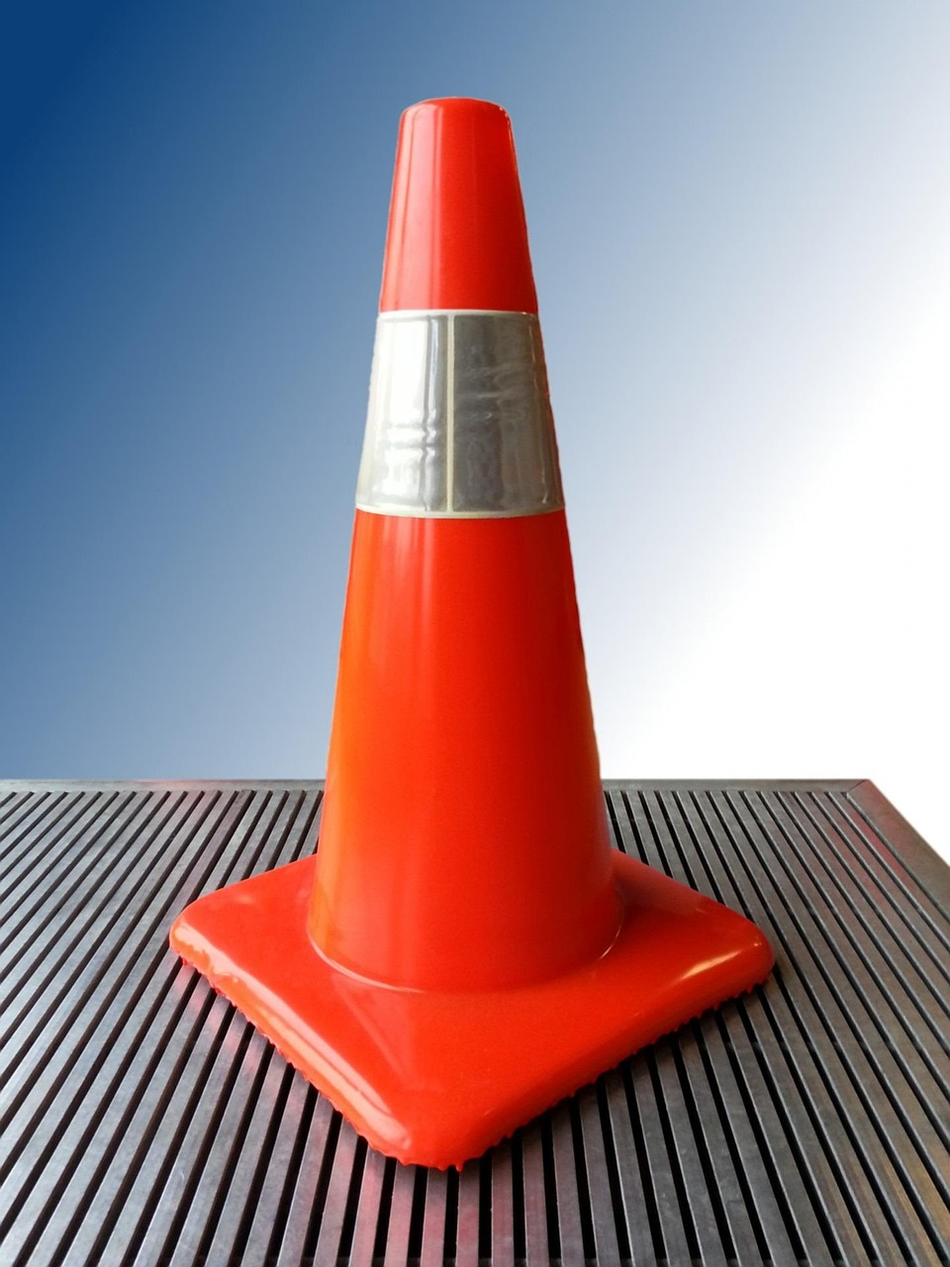traffic_cone: (168, 94, 776, 1172)
